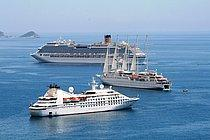Ship: (19, 81, 136, 118), (33, 37, 155, 67), (98, 60, 180, 91)
